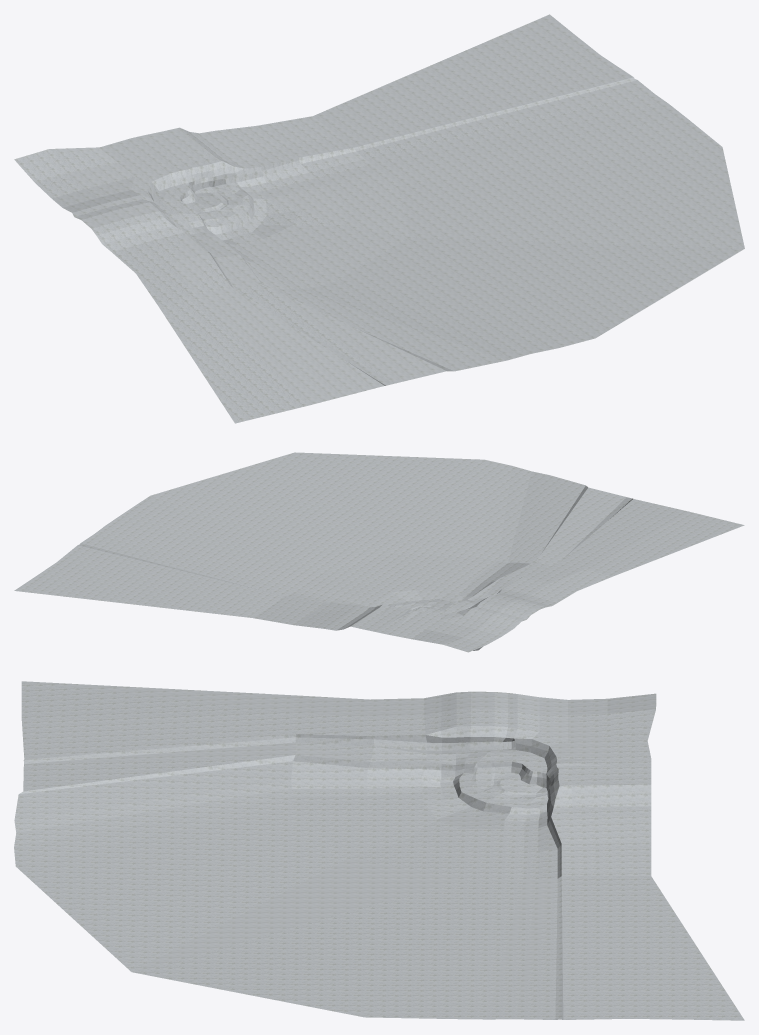
File: levelblockout01.fbx
3 renders of one model, top to bottom at view 1: azimuth 30°, elevation 25°; view 2: azimuth 150°, elevation 25°; view 3: azimuth 270°, elevation 25°, orthographic. The views are drawn at different scales.
Parts seen in each view (by area): view 1: terrainblock; view 2: terrainblock; view 3: terrainblock.
Part boxes in pixels (bbox=[...]): terrainblock: bbox=[14, 14, 744, 423]; terrainblock: bbox=[14, 452, 744, 652]; terrainblock: bbox=[14, 681, 744, 1020].
Size of the model in its own units: 193432 by 10570 by 176008.
